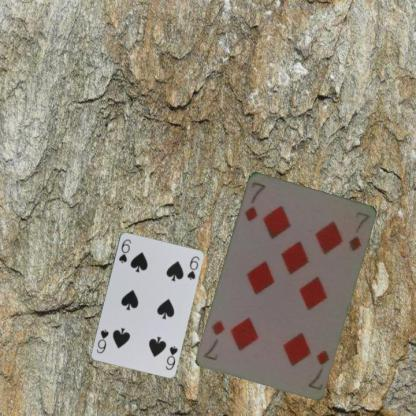6s: (116, 236, 132, 264), (163, 343, 179, 371)
7d: (241, 178, 267, 223), (305, 347, 331, 391)
